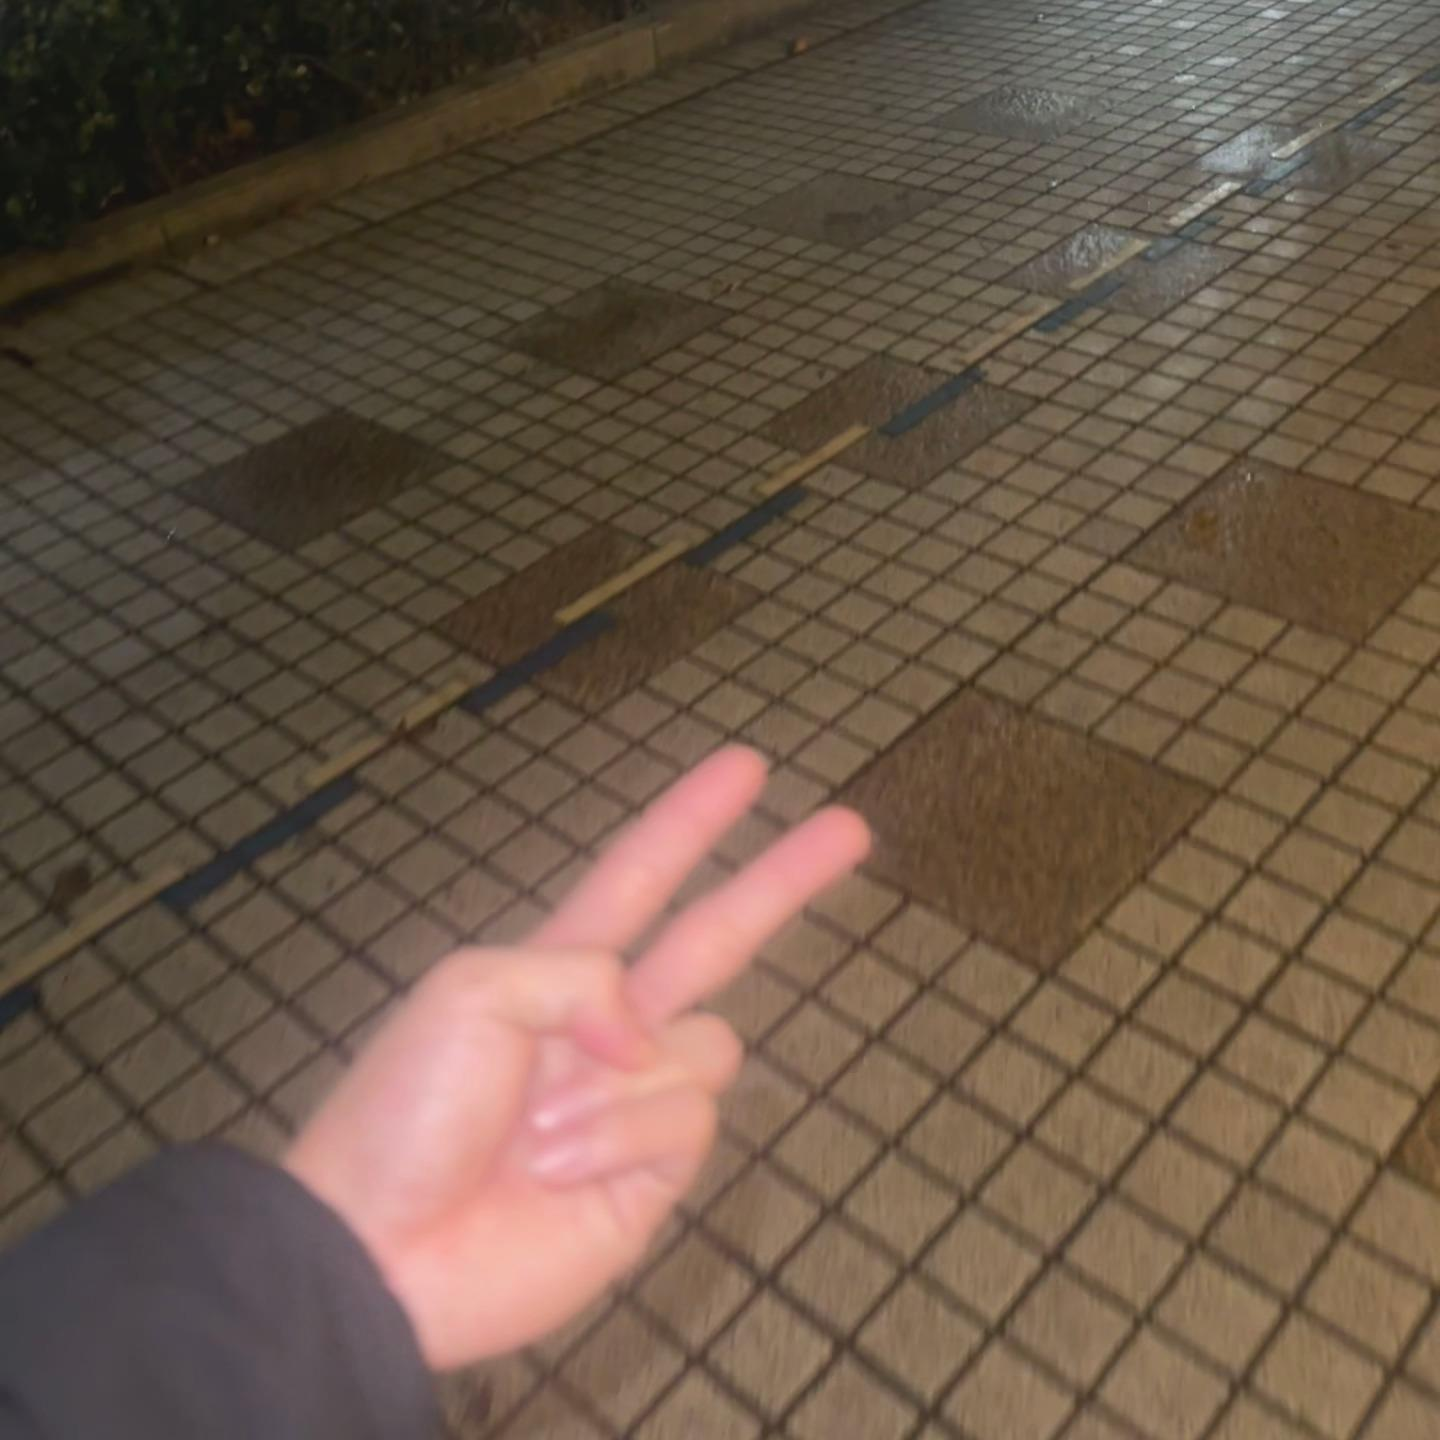without_gloves: (368, 516, 1008, 1344)
